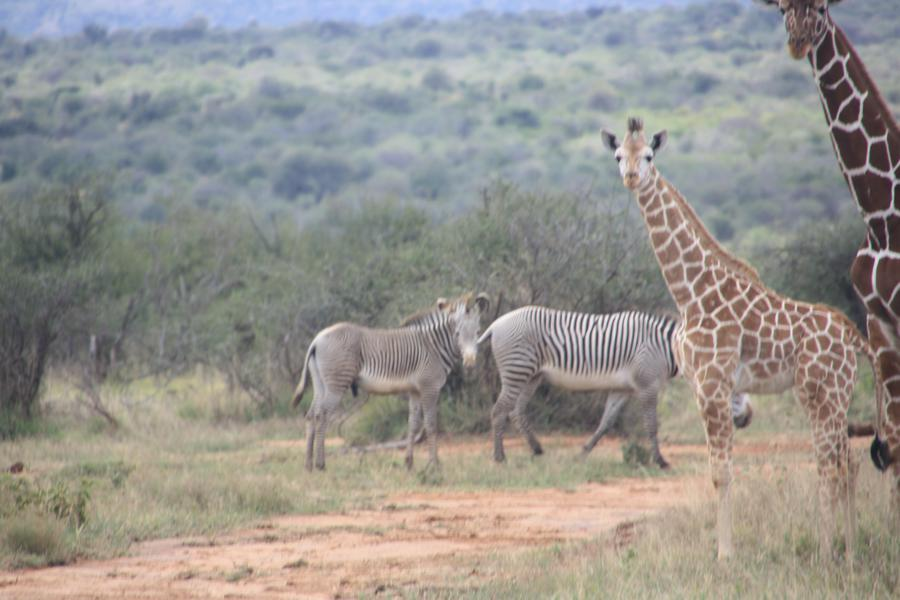zebra_grevys: (492, 298, 668, 386)
